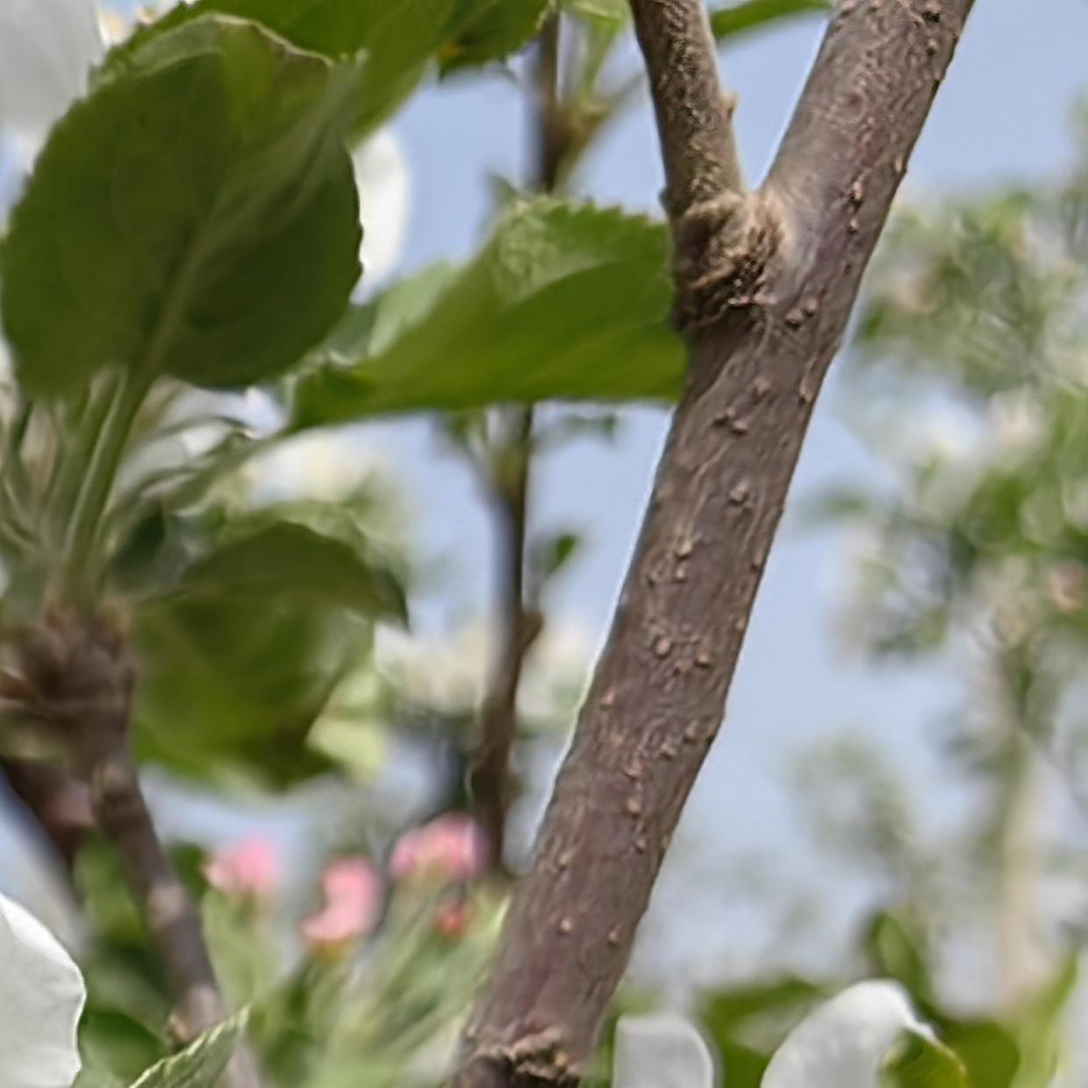apple_flower: (615, 984, 920, 1088)
